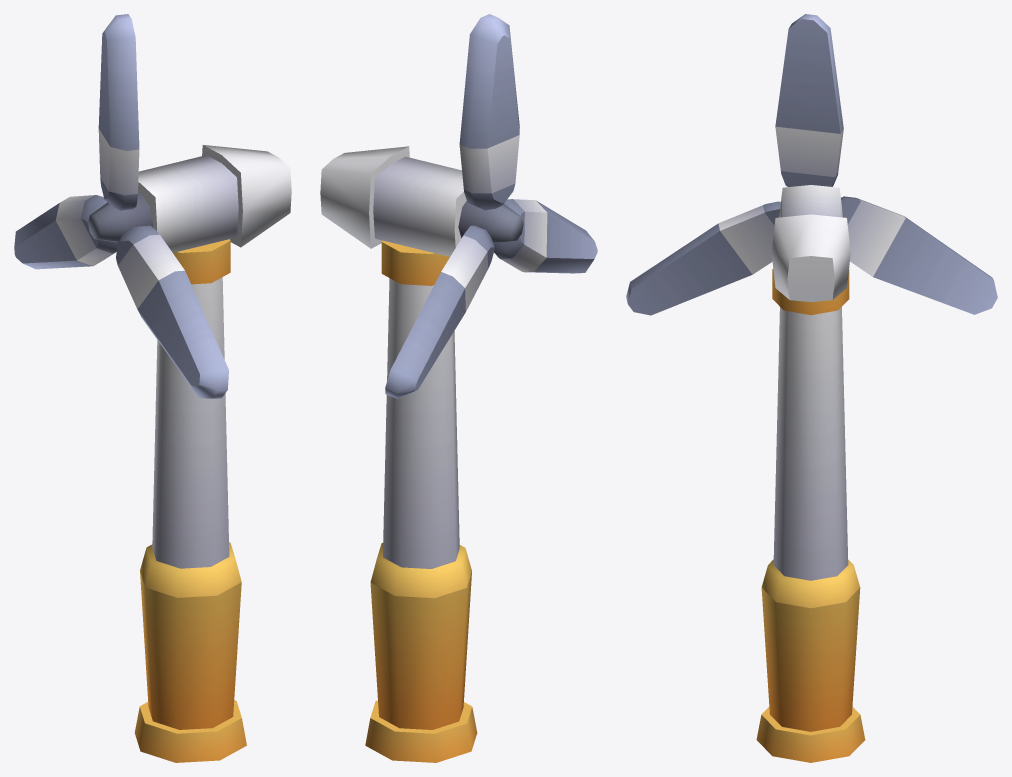
Rendered from turbine.glb.
3 views of the same model, side by side, from view 1: azimuth 30°, elevation 25°; view 2: azimuth 150°, elevation 25°; view 3: azimuth 270°, elevation 25° (orthographic). The views are drawn at different scales.
Parts seen in each view (by area): view 1: windmill, blades; view 2: windmill, blades; view 3: windmill, blades.
Boxes of the visible parts, x1,y1,x2,y2 form: windmill: (88, 145, 291, 762); blades: (14, 14, 228, 398); windmill: (320, 146, 523, 762); blades: (385, 14, 597, 398); windmill: (756, 185, 865, 762); blades: (626, 14, 997, 315).
Size of the model in its own units: 0.6047 by 2.31 by 1.13.
Materials: 1 (1 with a texture image).
